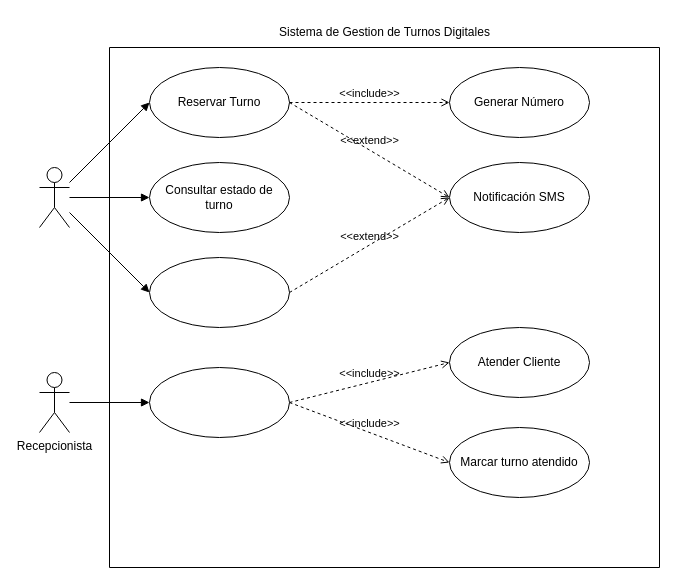
This 677x585 diagram has some shape labels left out. The shapes that lost their labels are listed below. From the top down, each one's centre as x and y in pixels, then its label:
pixel 54 197: Cliente
pixel 219 292: Cancelar Reserva
pixel 219 402: Llamar al siguiente turno
